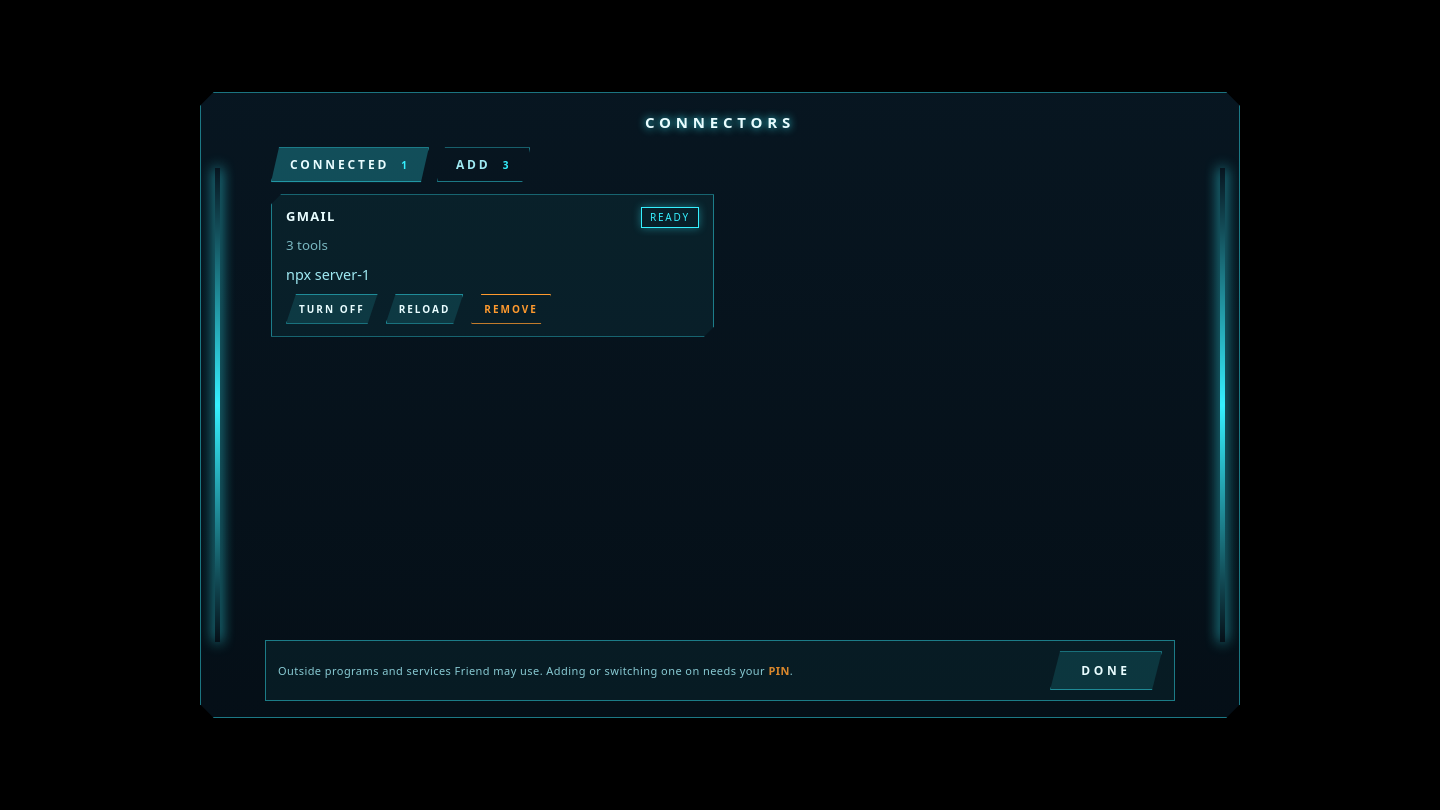
Test case: connectors in the glass panel › lists what can be added on the Add tab, and a connector that is already connected cannot be added twice
What coordinates should you click on to do the following:
click the tab "Add 3"
I would click on:
 (484, 165)
Its box is [437,147,530,182].
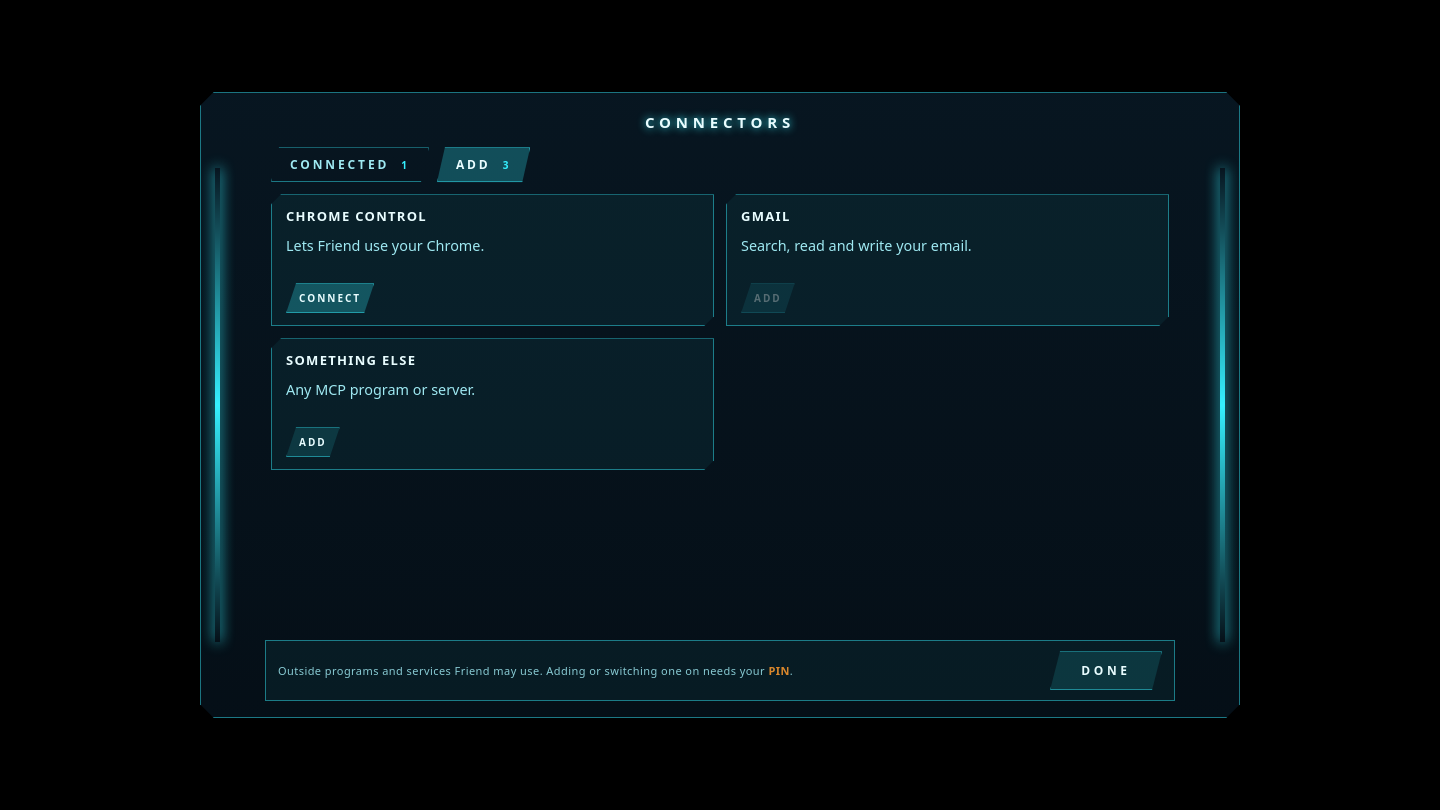
expect the button "Add" below "Gmail" is disabled: met, box [741,283,795,313]
expect the button "Add" below "Something else" is shown: met, box [286,427,340,457]
